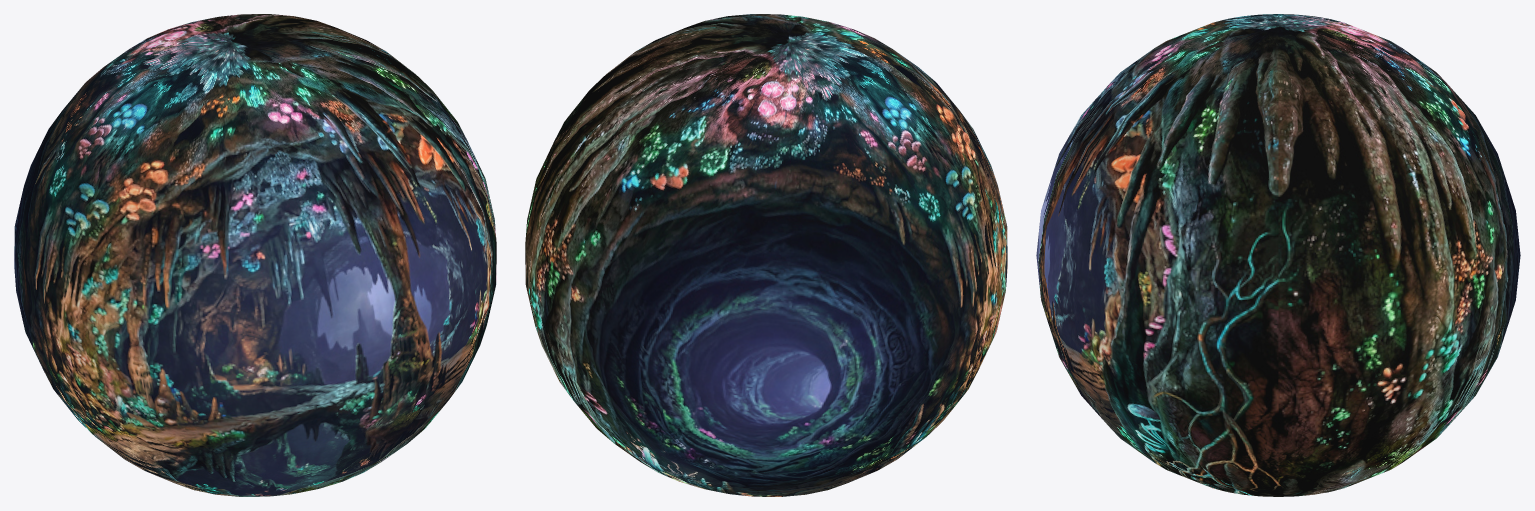
The model's file is stylized_alien_cave_skybox.glb.
3 views of the same model, side by side, from view 1: azimuth 30°, elevation 25°; view 2: azimuth 150°, elevation 25°; view 3: azimuth 270°, elevation 25° (orthographic).
Visible parts, largest first — view 1: Sphere; view 2: Sphere; view 3: Sphere.
Part boxes in pixels (box(x1,y1,x2,y2)): Sphere: box(14, 14, 496, 496); Sphere: box(525, 14, 1007, 496); Sphere: box(1036, 14, 1520, 496).
Size of the model in its own units: 1533 by 1533 by 1538.
Materials: 1 (1 with a texture image).
